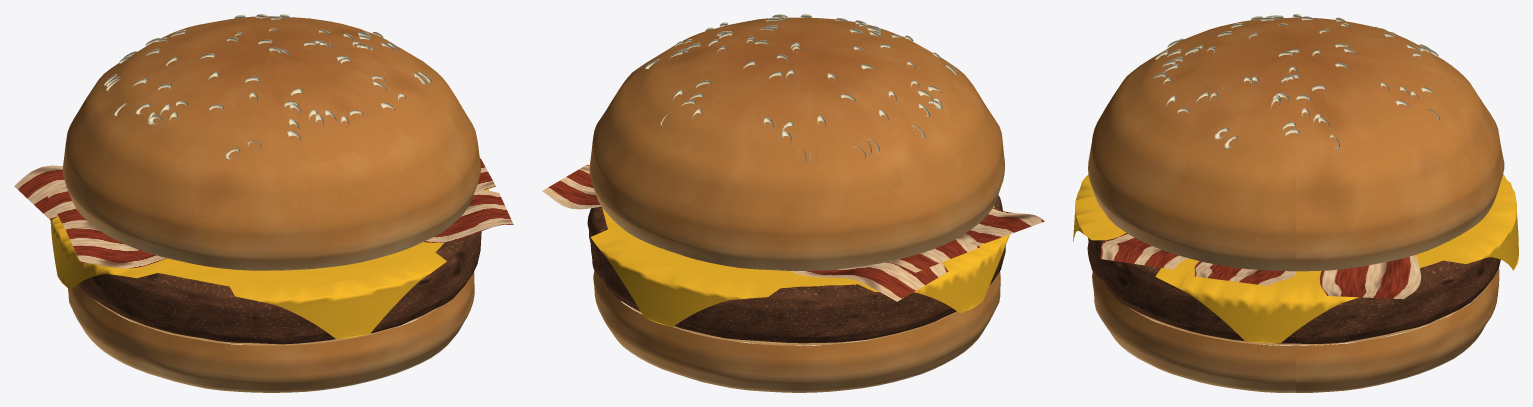
Rendered from burger-x-bacon.glb.
3 renders of one model, left to right at view 1: azimuth 30°, elevation 25°; view 2: azimuth 150°, elevation 25°; view 3: azimuth 270°, elevation 25°, orthographic.
Visible parts, largest first — view 1: burger-x-bacon; view 2: burger-x-bacon; view 3: burger-x-bacon.
Boxes of the visible parts, box(x1,y1,x2,y2) form: burger-x-bacon: box(14, 14, 513, 392); burger-x-bacon: box(542, 14, 1044, 392); burger-x-bacon: box(1073, 14, 1518, 392).
Bounding box in the file's own units: 0.132 × 0.0814 × 0.1211.
6 materials, 4 textured.
